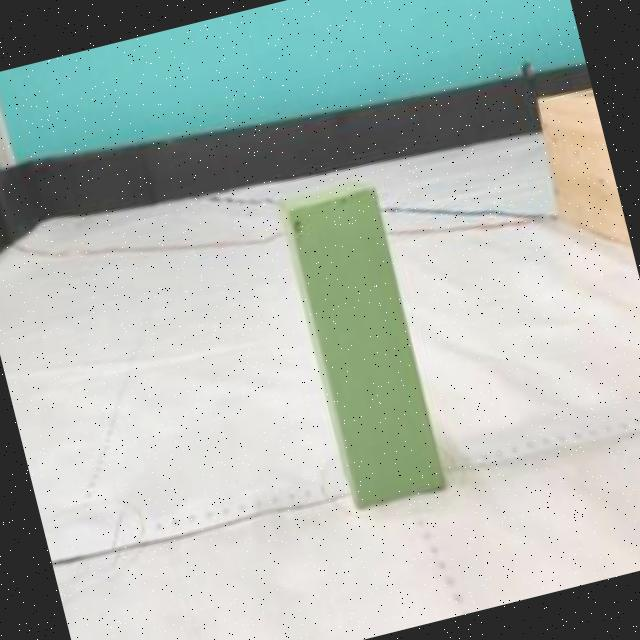greenbox: (266, 168, 453, 515)
